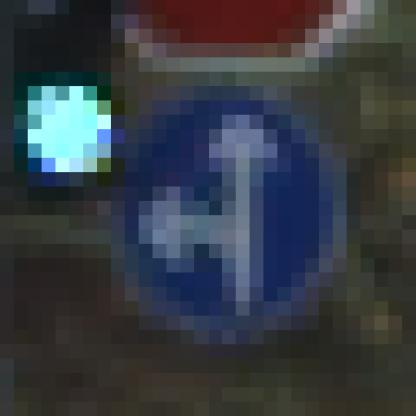Straight or Left: (84, 73, 348, 345)
